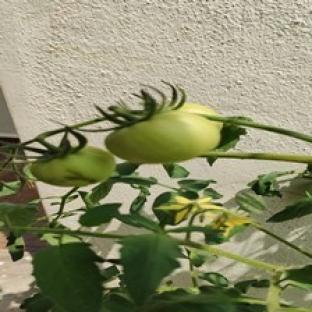Tomato: (106, 111, 221, 162), (30, 147, 115, 186), (179, 104, 218, 115)
